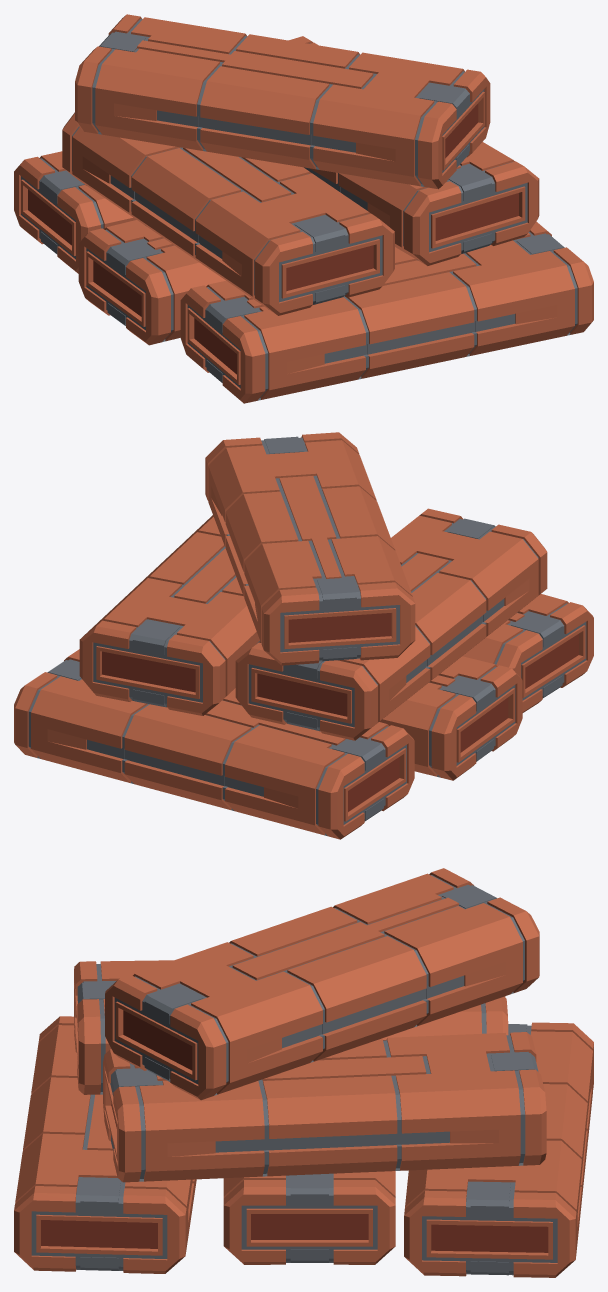
The model's file is SM_Copper_Ingot.fbx.
3 views of the same model, one above another, from view 1: azimuth 30°, elevation 25°; view 2: azimuth 150°, elevation 25°; view 3: azimuth 270°, elevation 25° (orthographic). The views are drawn at different scales.
Visible parts, largest first — view 1: SM_Copper_Ingot; view 2: SM_Copper_Ingot; view 3: SM_Copper_Ingot.
Boxes of the visible parts, x1,y1,x2,y2 form: SM_Copper_Ingot: (14, 14, 593, 403); SM_Copper_Ingot: (14, 432, 593, 839); SM_Copper_Ingot: (14, 868, 593, 1277).
Size of the model in its own units: 21.47 by 12 by 27.
